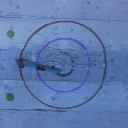Axe Tip: (15, 59, 24, 63)
